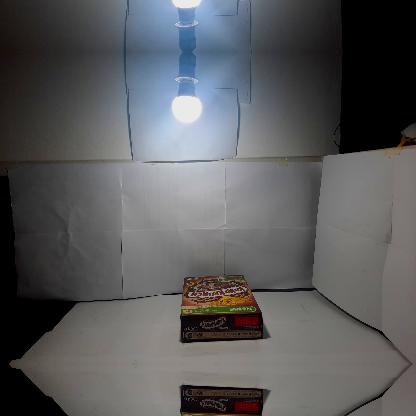Koko-Krunch: (180, 274, 264, 340), (180, 388, 265, 415)
